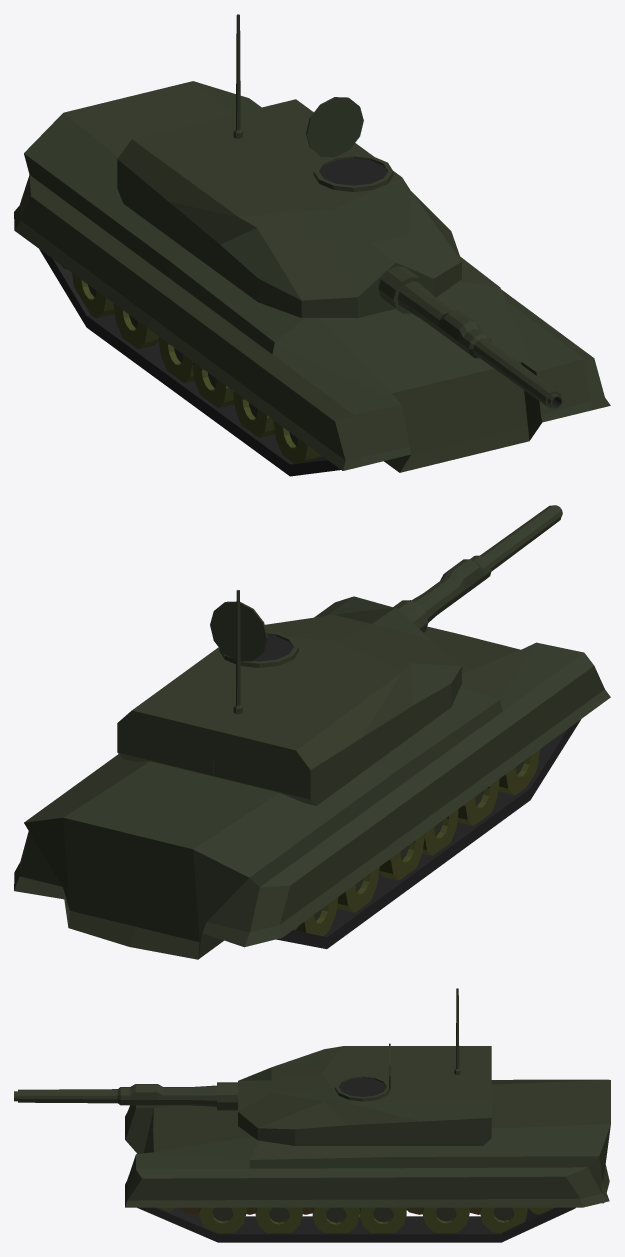
The model's file is type 90 tank2.fbx.
3 views of the same model, one above another, from view 1: azimuth 30°, elevation 25°; view 2: azimuth 150°, elevation 25°; view 3: azimuth 270°, elevation 25° (orthographic). The views are drawn at different scales.
Parts seen in each view (by area): view 1: Cube, Cube.002; view 2: Cube, Cube.002; view 3: Cube, Cube.002.
Part boxes in pixels (x1,y1,x2,y2): Cube: [14, 81, 610, 476]; Cube.002: [117, 14, 562, 408]; Cube: [14, 596, 610, 959]; Cube.002: [117, 505, 562, 805]; Cube: [125, 1079, 610, 1242]; Cube.002: [14, 988, 491, 1145].
Bounding box in the file's own units: 164 × 179 × 455.
